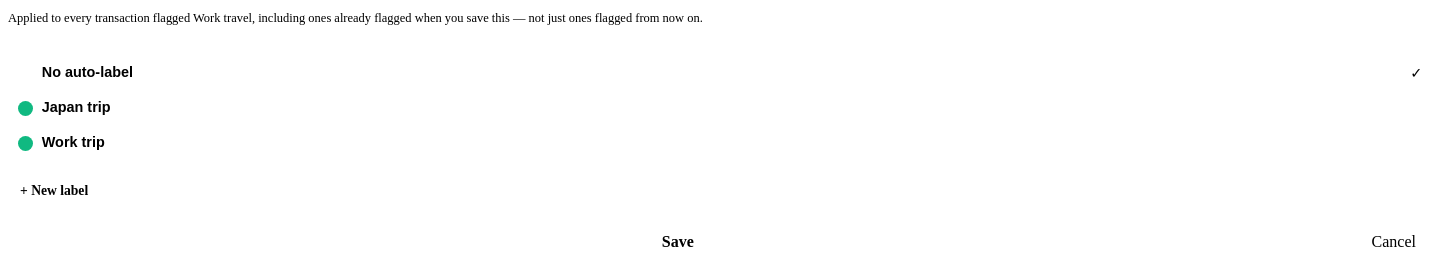
FlagAutoLabelEditor › backs out of quick-create on Escape without closing the whole editor
Click the button "+ New label" at (54, 191), box [8,174,1432,208]
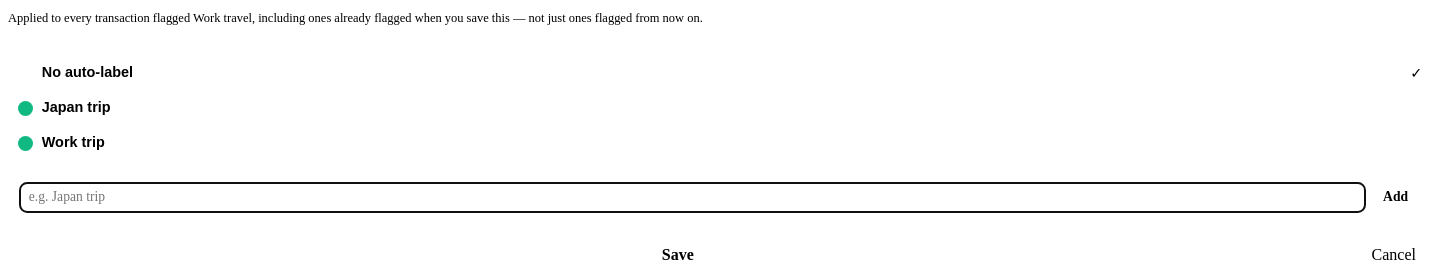
Type "Madrid" into the field named "New label name" at (692, 198), box [20,183,1365,212]
Then press Escape
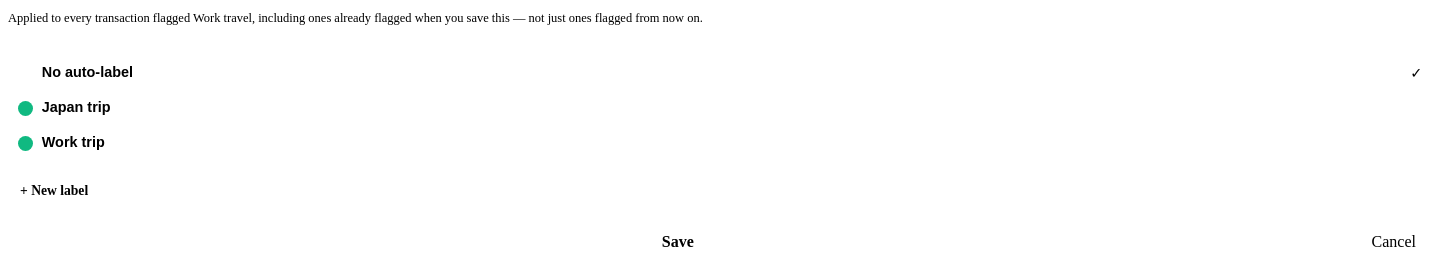
Check: the button "Save" is shown, box [8,222,1348,263]
Check: the button "+ New label" is shown, box [8,174,1432,208]
